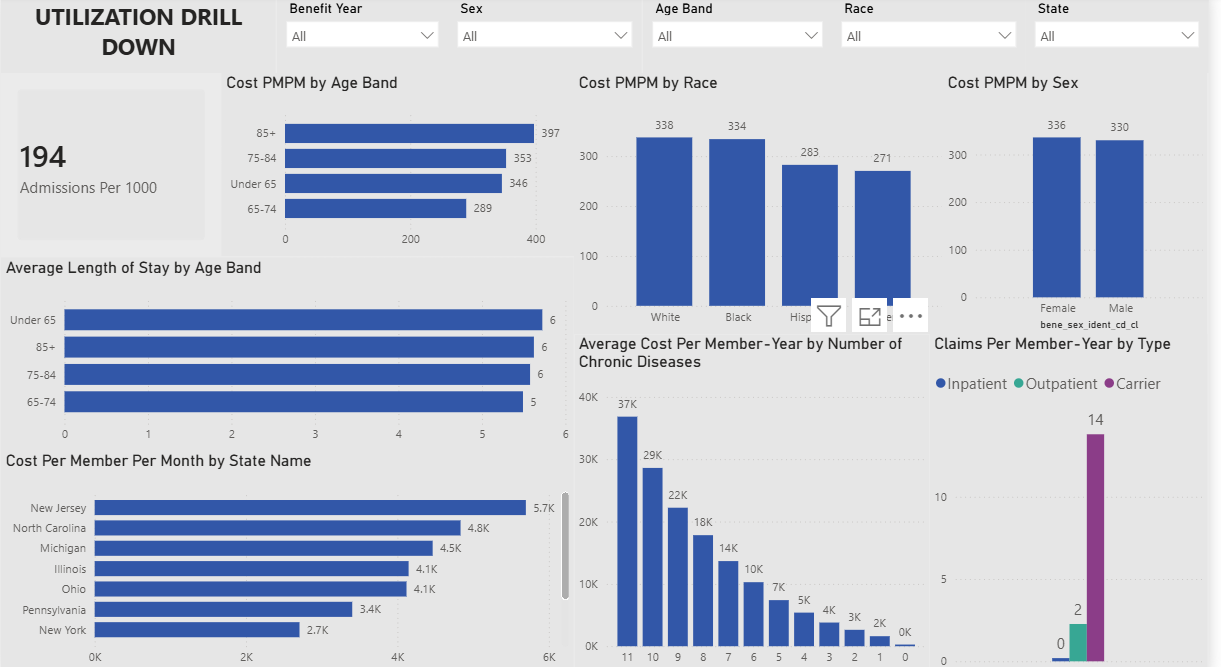

The page's visual inventory and layout, read from the dashboard file:
{"tool":"powerbi","page":{"name":"Utilization Drillldown","canvas":[1280,720],"ordinal":1},"visuals":[{"type":"textbox","box":[0,0,291.5,82.6],"z":0},{"type":"slicer","fields":{"Values":["public dashboard_member_year.bene_year"]},"box":[293.1,0,181.4,82.6],"z":1000},{"type":"slicer","fields":{"Values":["public dashboard_member_year.bene_sex_ident_cd_cl"]},"box":[474.4,0,205.6,82.6],"z":2000},{"type":"slicer","fields":{"Values":["public dashboard_member_year.bene_race_cd_cl"]},"box":[880.9,0,205.6,82.6],"z":3000},{"type":"slicer","fields":{"Values":["public dashboard_member_year.age_band"]},"box":[680.1,0,200.8,82.6],"z":4000},{"type":"slicer","fields":{"Values":["public dashboard_member_year.state_name"]},"box":[1086.5,0,194.3,82.6],"z":5000},{"type":"cardVisual","fields":{"Data":["Measure.adm_per_1000"]},"box":[0,82.6,233.2,194.3],"z":6000},{"type":"clusteredBarChart","title":"Cost PMPM by Age Band","fields":{"Category":["public dashboard_member_year.age_band"],"Y":["Measure.cost_pmpm"]},"box":[233.2,82.6,374,194.3],"z":7000},{"type":"clusteredColumnChart","title":"Cost PMPM by Race","fields":{"Y":["Measure.cost_pmpm"],"Category":["public dashboard_member_year.bene_race_cd_cl"]},"box":[607.2,82.6,395.1,276.9],"z":8000},{"type":"clusteredColumnChart","title":"Cost PMPM by Sex","fields":{"Y":["Measure.cost_pmpm"],"Category":["public dashboard_member_year.bene_sex_ident_cd_cl"]},"box":[999.1,82.6,280.1,276.9],"z":9000},{"type":"clusteredBarChart","title":"Average Length of Stay by Age Band","fields":{"Category":["public dashboard_member_year.age_band"],"Y":["Measure.ALOS"]},"box":[0,278.5,607.2,205.6],"z":10000},{"type":"clusteredColumnChart","title":"Claims Per Member-Year by Type","fields":{"Y":["Measure.IP Claims Per Member-Year","Measure.OP Claim Per Member-Year","Measure.Carrier Claims Per Member-Year"]},"box":[984.5,359.5,294.7,361.1],"z":11000},{"type":"clusteredColumnChart","title":"Average Cost Per Member-Year by Number of Chronic Diseases","fields":{"Category":["public dashboard_member_year.chronic_count"],"Y":["Measure.Average Cost Per Member-Year"]},"box":[607.2,359.5,377.3,361.1],"z":12000},{"type":"clusteredBarChart","title":" Cost Per Member Per Month by State Name","fields":{"Category":["public dashboard_member_year.state_name"],"Y":["Measure.opcar_pmpm"]},"box":[0,484.1,607.2,236.4],"z":13000}]}

Visuals, with their boxes in screenshot pixels (x1, y1, x2, y2), scaled from the page's 1280x720 canvas onto the 1221x667 screenshot:
textbox: crop(0, 0, 278, 77)
slicer - public dashboard_member_year.bene_year: crop(280, 0, 453, 77)
slicer - public dashboard_member_year.bene_sex_ident_cd_cl: crop(453, 0, 649, 77)
slicer - public dashboard_member_year.bene_race_cd_cl: crop(840, 0, 1036, 77)
slicer - public dashboard_member_year.age_band: crop(649, 0, 840, 77)
slicer - public dashboard_member_year.state_name: crop(1036, 0, 1220, 77)
cardVisual - Measure.adm_per_1000: crop(0, 77, 222, 257)
"Cost PMPM by Age Band" clusteredBarChart: crop(222, 77, 579, 257)
"Cost PMPM by Race" clusteredColumnChart: crop(579, 77, 956, 333)
"Cost PMPM by Sex" clusteredColumnChart: crop(953, 77, 1220, 333)
"Average Length of Stay by Age Band" clusteredBarChart: crop(0, 258, 579, 448)
"Claims Per Member-Year by Type" clusteredColumnChart: crop(939, 333, 1220, 666)
"Average Cost Per Member-Year by Number of Chronic Diseases" clusteredColumnChart: crop(579, 333, 939, 666)
" Cost Per Member Per Month by State Name" clusteredBarChart: crop(0, 448, 579, 666)
